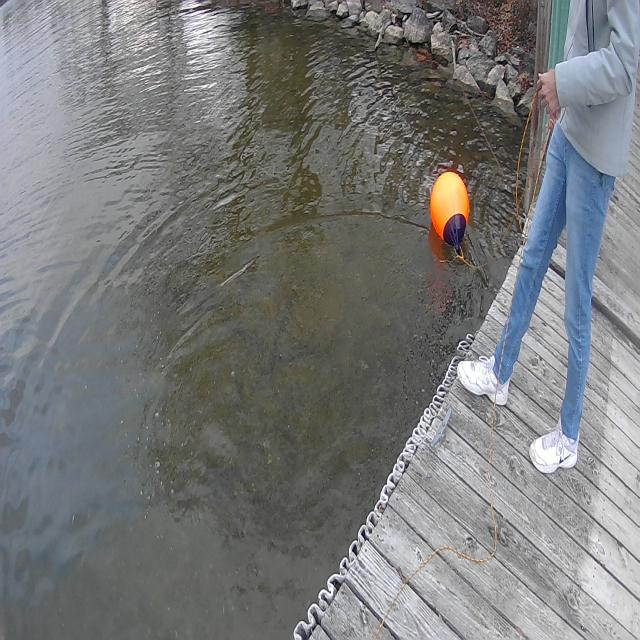Buoy: (425, 161, 473, 262)
